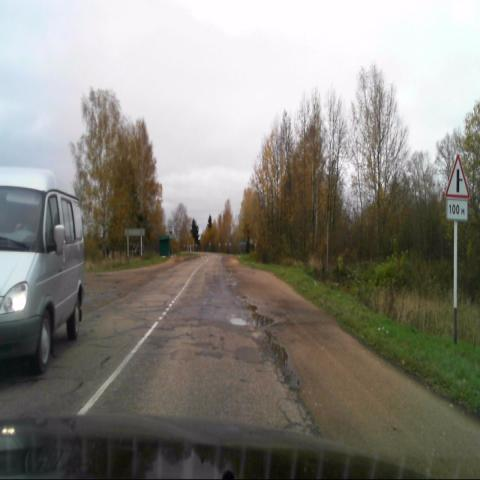8_1_1: (446, 199, 468, 219)
